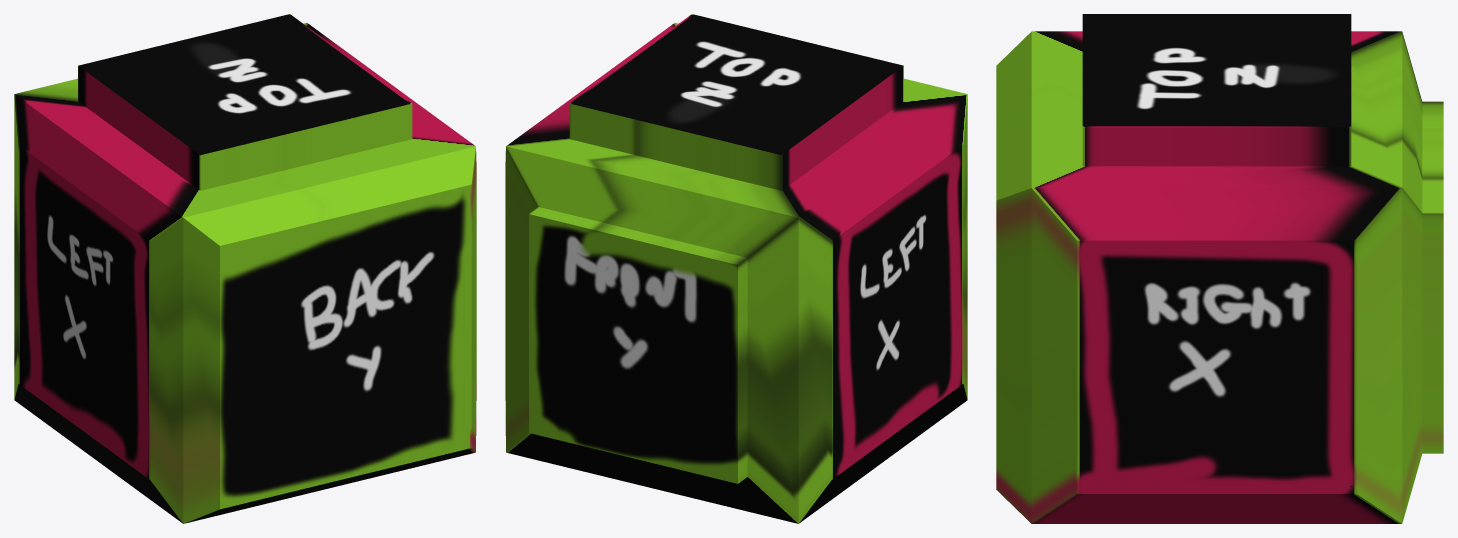
Rendered from Cubao.fbx.
3 renders of one model, left to right at view 1: azimuth 30°, elevation 25°; view 2: azimuth 150°, elevation 25°; view 3: azimuth 270°, elevation 25°, orthographic. The views are drawn at different scales.
Parts seen in each view (by area): view 1: Cube; view 2: Cube; view 3: Cube.
Boxes of the visible parts, left/top/right/bottom form: Cube: left=14, top=14, right=476, bottom=523; Cube: left=505, top=14, right=967, bottom=523; Cube: left=996, top=14, right=1443, bottom=523.
Bounding box in the file's own units: 396 × 394 × 426.
